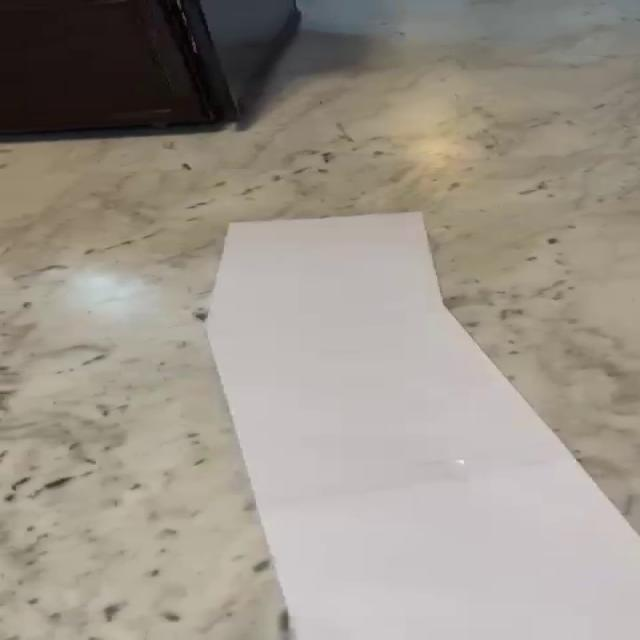road: (205, 212, 637, 640)
